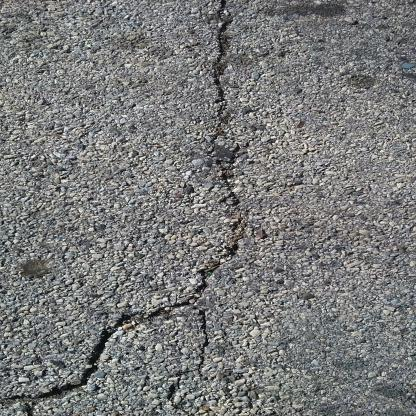Cracks: (3, 1, 260, 416)
